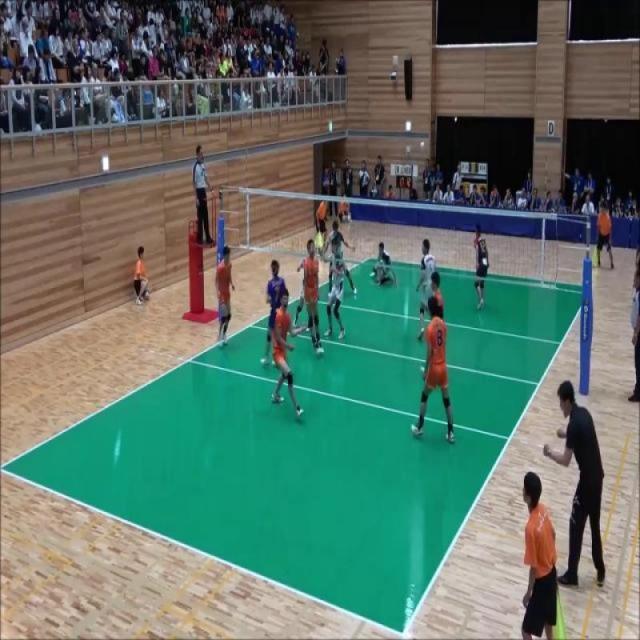volleyball: (346, 215, 351, 222), (420, 142, 424, 150)
